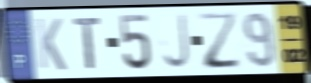5: (118, 12, 154, 72)
9: (240, 10, 277, 70)
J: (161, 12, 192, 71)
K: (34, 16, 68, 73)
T: (72, 16, 103, 71)
Z: (196, 10, 243, 71)
